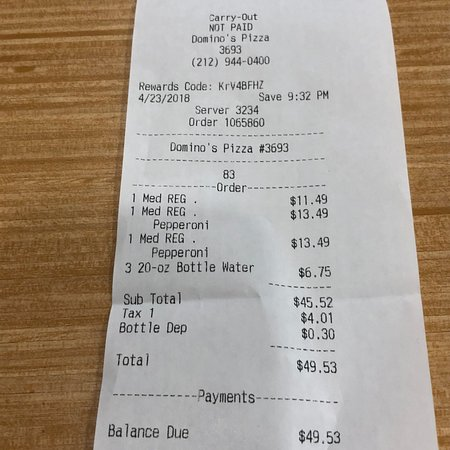Purchase summary: (106, 77, 418, 447)
Receipt: (104, 1, 426, 449)
Shop details: (133, 3, 364, 72)
